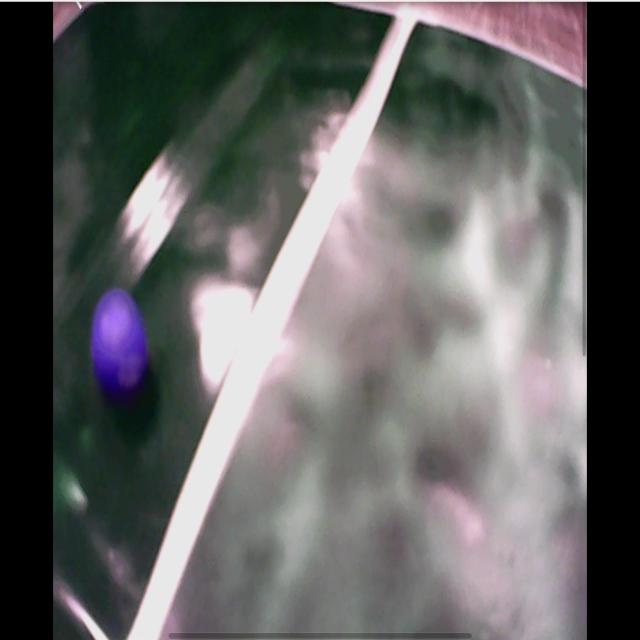ball: (93, 290, 148, 385)
